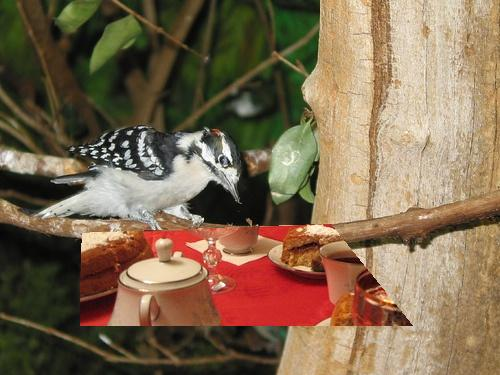tampered: (81, 225, 413, 326)
